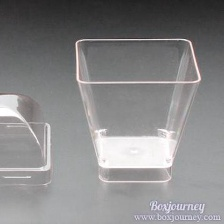glass: (71, 28, 206, 189)
